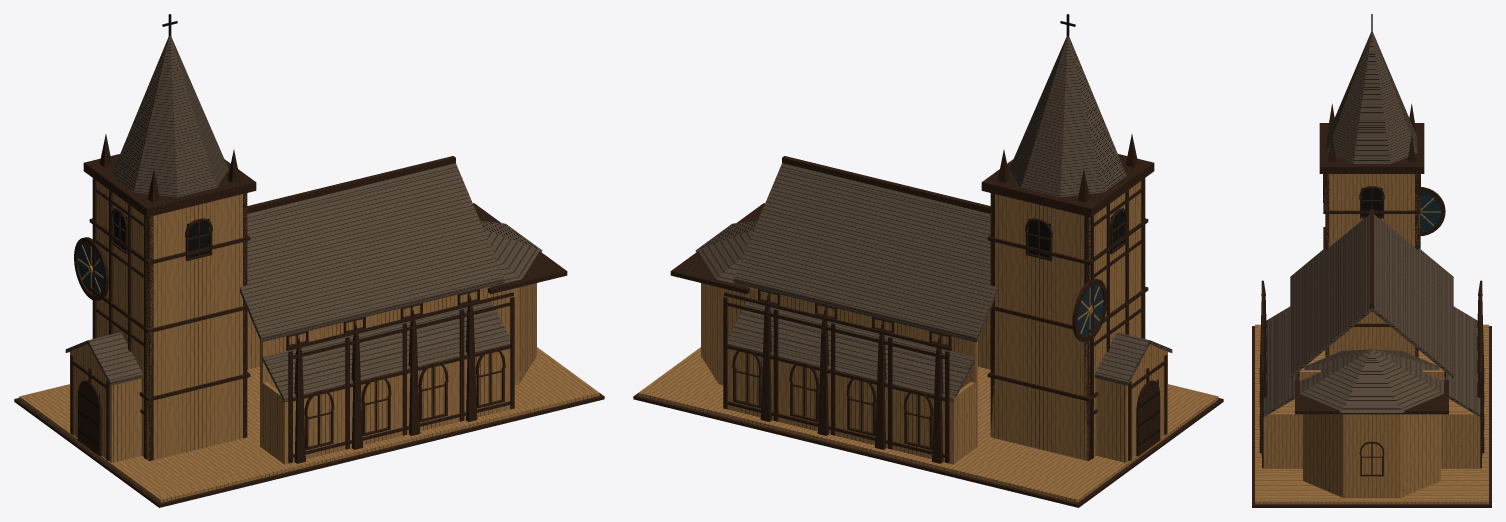
File: Modle_WoodenGothicChurch.fbx
3 renders of one model, left to right at view 1: azimuth 30°, elevation 25°; view 2: azimuth 150°, elevation 25°; view 3: azimuth 270°, elevation 25°, orthographic. The views are drawn at different scales.
Parts seen in each view (by area): view 1: GEO-NaveRoof_N, GEO-TowerShaft, GEO-Plinth, GEO-TowerSpire, GEO-AisleWallN, GEO-AisleRoofN, GEO-Porch, GEO-PlinthStep, GEO-TowerCornice, GEO-NaveWallN, GEO-Apse, GEO-ApseRoof (+18 smaller); view 2: GEO-NaveRoof_S, GEO-TowerShaft, GEO-Plinth, GEO-TowerSpire, GEO-AisleWallS, GEO-AisleRoofS, GEO-Porch, GEO-PlinthStep, GEO-TowerCornice, GEO-NaveWallS, GEO-Apse, GEO-ApseRoof (+18 smaller); view 3: GEO-Apse, GEO-NaveRoof_N, GEO-NaveRoof_S, GEO-Plinth, GEO-ApseRoof, GEO-TowerSpire, GEO-TowerShaft, GEO-AisleRoofN, GEO-AisleRoofS, GEO-PlinthStep, GEO-TowerCornice, GEO-AisleEndE_N (+12 smaller).
Part boxes in pixels (box(x1,y1,x2,y2)): GEO-NaveRoof_N: box(240, 163, 504, 342); GEO-TowerShaft: box(92, 178, 247, 460); GEO-Plinth: box(19, 347, 599, 502); GEO-TowerSpire: box(111, 36, 228, 197); GEO-AisleWallN: box(281, 348, 510, 464); GEO-AisleRoofN: box(261, 301, 510, 402); GEO-Porch: box(70, 351, 141, 462); GEO-PlinthStep: box(14, 393, 604, 507); GEO-TowerCornice: box(83, 154, 256, 217); GEO-NaveWallN: box(260, 287, 491, 448); GEO-Apse: box(491, 283, 536, 384); GEO-ApseRoof: box(460, 220, 542, 295); GEO-NaveRoof_S: box(733, 163, 997, 342); GEO-TowerShaft: box(990, 181, 1145, 460); GEO-Plinth: box(638, 347, 1218, 502); GEO-TowerSpire: box(1009, 36, 1126, 197); GEO-AisleWallS: box(727, 344, 956, 464); GEO-AisleRoofS: box(727, 301, 975, 402); GEO-Porch: box(1096, 351, 1167, 462); GEO-PlinthStep: box(633, 393, 1223, 507); GEO-TowerCornice: box(981, 154, 1154, 217); GEO-NaveWallS: box(746, 286, 977, 448); GEO-Apse: box(701, 283, 746, 384); GEO-ApseRoof: box(695, 220, 777, 295); GEO-Apse: box(1303, 414, 1440, 497); GEO-NaveRoof_N: box(1290, 214, 1371, 378); GEO-NaveRoof_S: box(1372, 214, 1453, 378); GEO-Plinth: box(1255, 324, 1488, 504); GEO-ApseRoof: box(1298, 349, 1445, 412); GEO-TowerSpire: box(1326, 32, 1417, 163); GEO-TowerShaft: box(1325, 174, 1418, 357); GEO-AisleRoofN: box(1263, 307, 1297, 416); GEO-AisleRoofS: box(1446, 307, 1480, 416); GEO-PlinthStep: box(1252, 326, 1491, 507); GEO-TowerCornice: box(1319, 123, 1424, 173); GEO-AisleEndE_N: box(1268, 412, 1299, 468).
Bounding box in the file's own units: 27.3 × 24.6 × 15.4.
